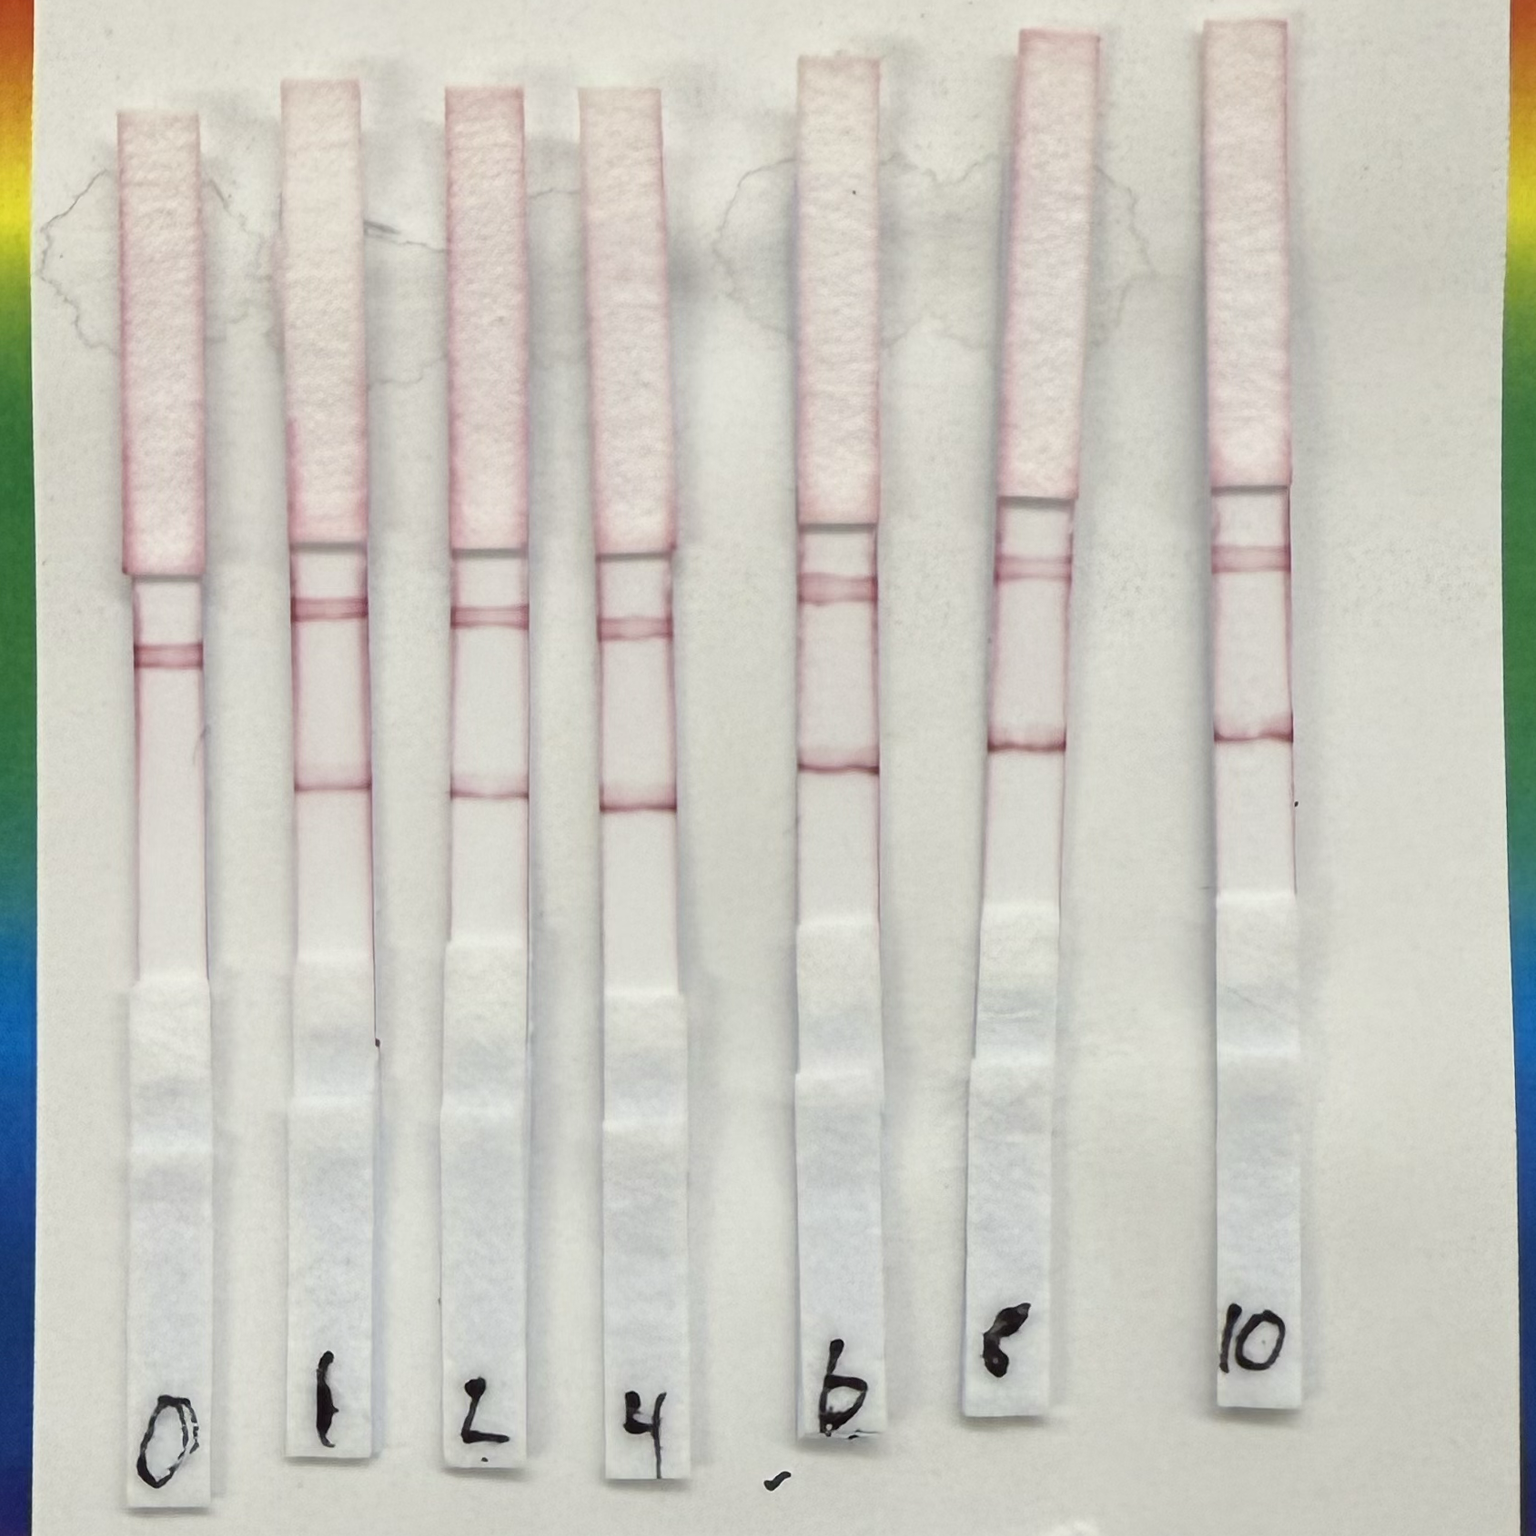Control: (288, 589, 369, 623), (127, 637, 207, 671), (993, 554, 1073, 588), (1210, 544, 1288, 577), (599, 612, 679, 643), (799, 577, 878, 608), (452, 601, 530, 632)
Test: (295, 765, 371, 793), (134, 813, 208, 841), (989, 727, 1065, 754), (800, 748, 875, 774), (601, 788, 675, 813), (453, 775, 527, 800), (1214, 716, 1288, 741)
